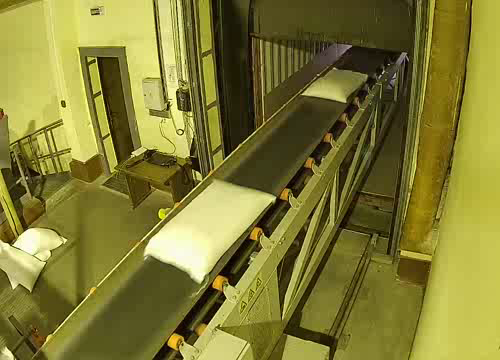bag: (129, 168, 294, 286), (297, 65, 372, 105)
